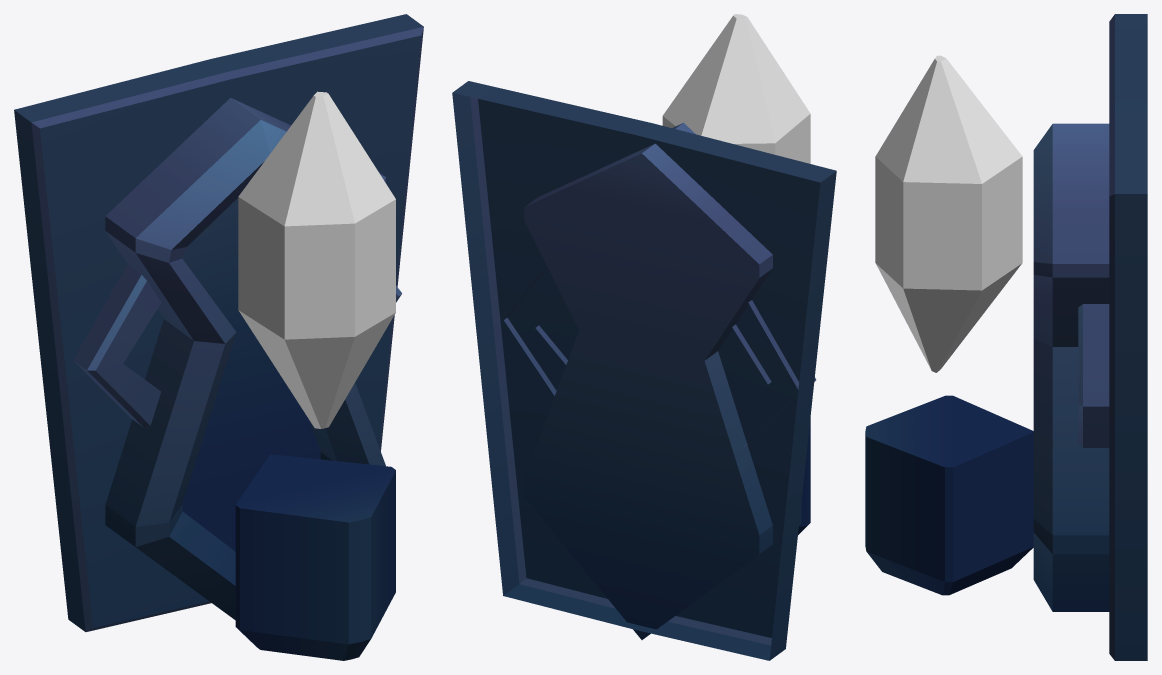
File: torch.fbx
3 renders of one model, left to right at view 1: azimuth 30°, elevation 25°; view 2: azimuth 150°, elevation 25°; view 3: azimuth 270°, elevation 25°, orthographic. The views are drawn at different scales.
Visible parts, largest first — view 1: torch; view 2: torch; view 3: torch.
Part boxes in pixels (bbox=[...]): torch: bbox=[14, 14, 423, 660]; torch: bbox=[452, 14, 836, 660]; torch: bbox=[865, 14, 1147, 660].
Size of the model in its own units: 0.3117 by 0.4465 by 0.2065.
2 materials, 1 textured.
